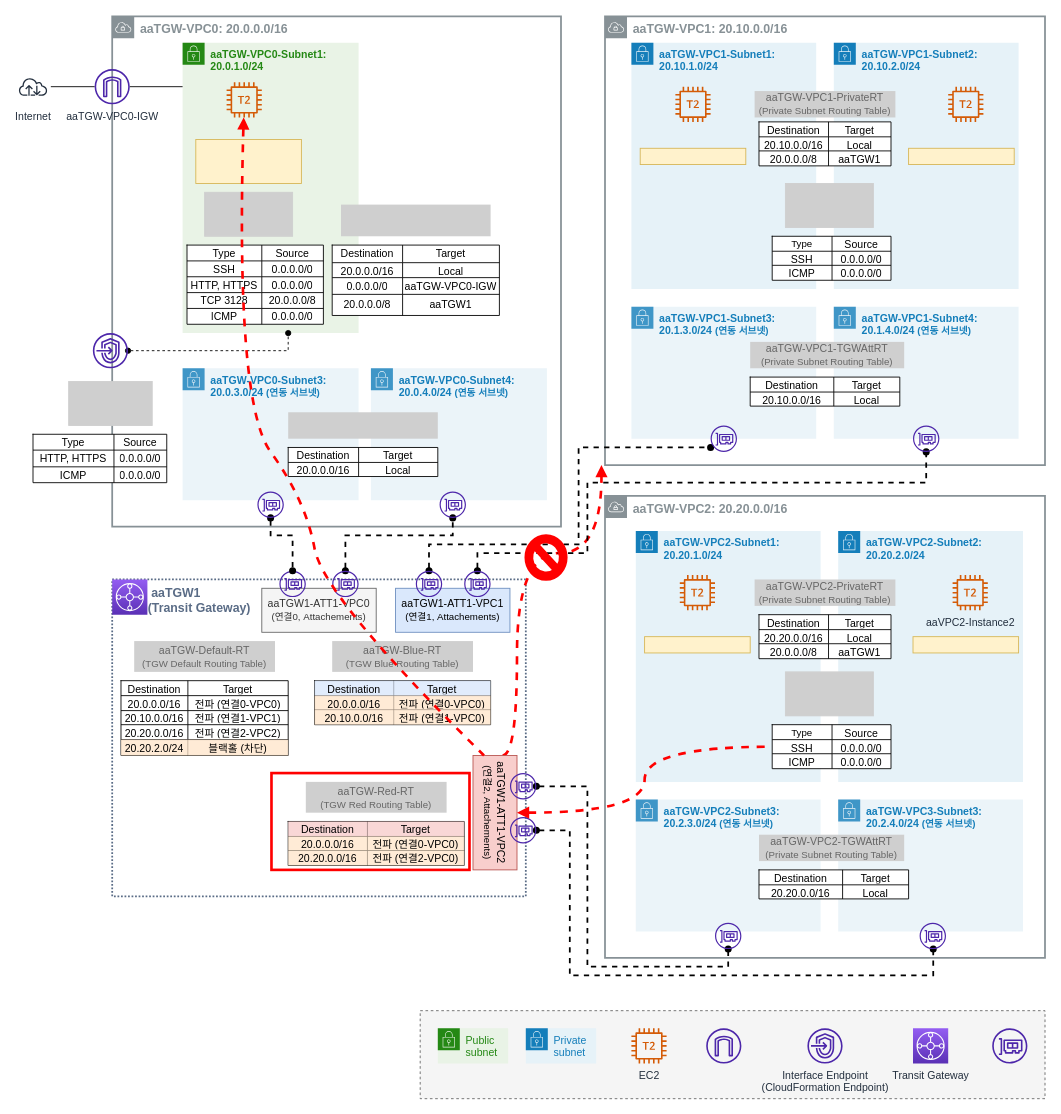
This 1061x1114 diagram has some shape labels left out. Each missing label, with the centre of its shape:
"aaTGW-VPC0-PublicRT (Public Subnet Routing Table)" goes at point 415,220.
"aaTGW-VPC0-TGWAttRT (Private Subnet Routing Table)" goes at point 362,425.
"aaVPC0-Instance1" goes at point 243,99.
"aaVPC0SG1 (Security Group, Inbound Rule)" goes at point 248,213.
"aaVPC0SG2 (Security Group, Inbound Rule)" goes at point 110,403.
"aaVPC1-Instance1" goes at point 692,103.
"aaVPC1-Instance2" goes at point 965,103.
"aaVPC1SG1 (Security Group, Inbound Rule)" goes at point 829,205.
"aaVPC2-Instance1" goes at point 697,592.
"aaVPC2SG1 (Security Group, Inbound Rule)" goes at point 829,693.
"Attachments" goes at point 1009,1045.
"IGW" goes at point 723,1045.
"Private IP: 20.0.1.10 Public IP 사용 Web Proxy Server" goes at point 248,161.
"Private IP: 20.10.1.10" goes at point 692,156.
"Private IP: 20.10.2.10" goes at point 961,156.
"Private IP: 20.20.1.10" goes at point 697,644.
"Private IP: 20.20.2.10" goes at point 965,644.
